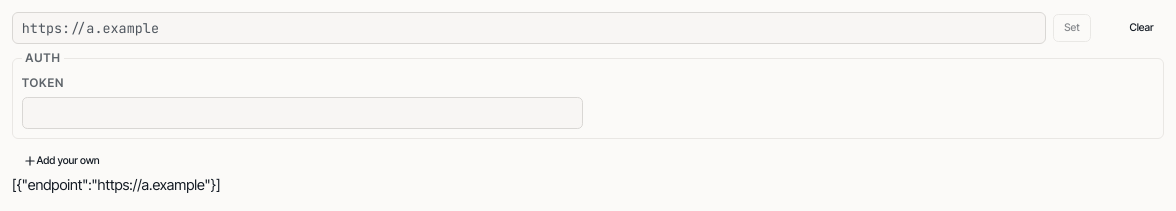
Test: SchemaSetValueArrayControl › edits a nested secondary property at its own path
Type "abc" into the field labelled "Token" at (302, 113), box [22,97,583,129]
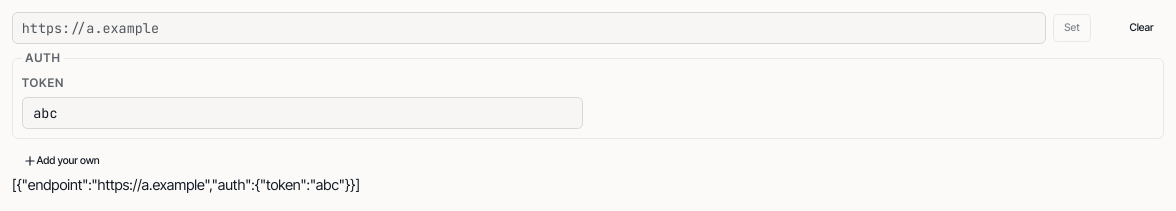
Expected: the text with test id "value" reads "[{\"endpoint\":\"https://a.example\",\"auth\":{\"token\":\"abc\"}}]", [12,176,360,194]
